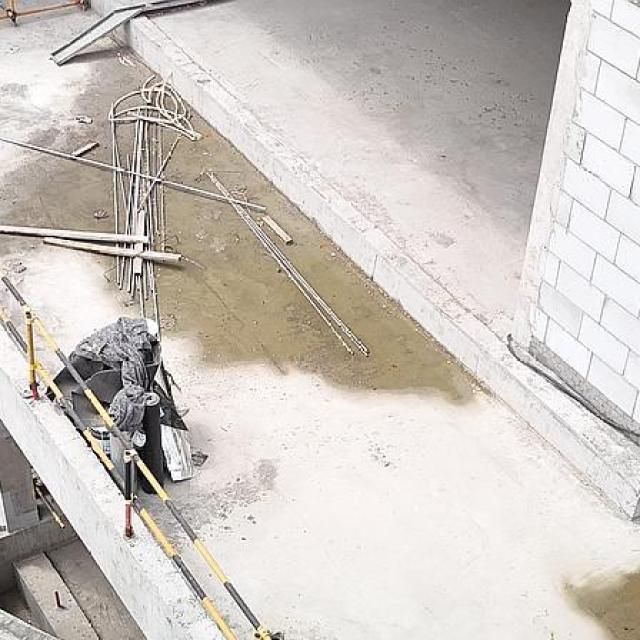edge_guardrail: (0, 274, 274, 639)
